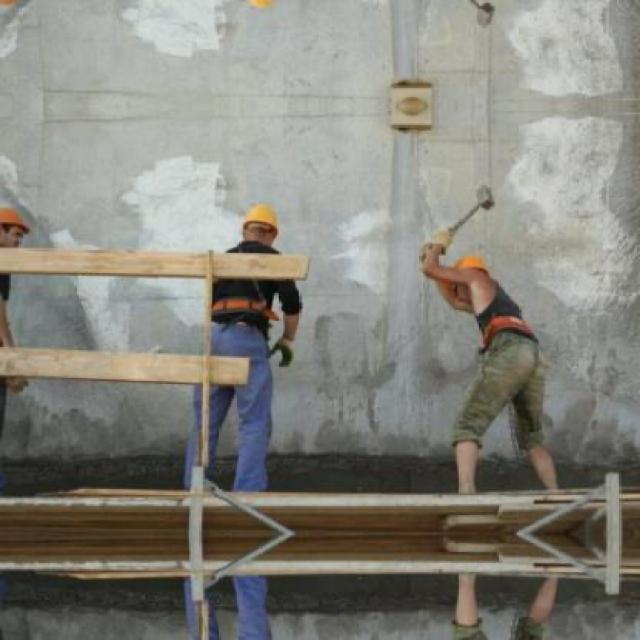helmet: (238, 199, 282, 248), (452, 251, 490, 304), (3, 199, 34, 251), (237, 0, 282, 15), (2, 0, 34, 15)
